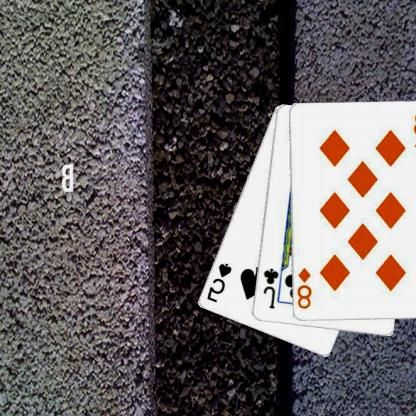5S: (206, 261, 235, 304)
8D: (296, 266, 315, 310), (412, 110, 416, 154)
JC: (262, 266, 282, 310)
